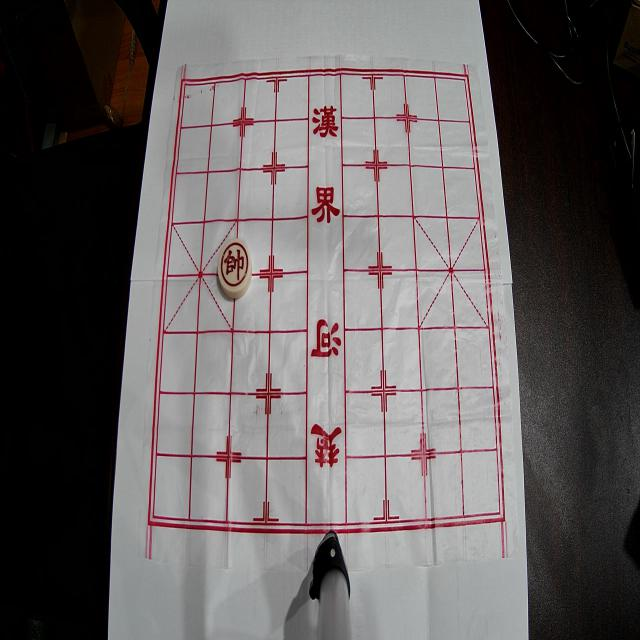red-general: (218, 238, 252, 298)
